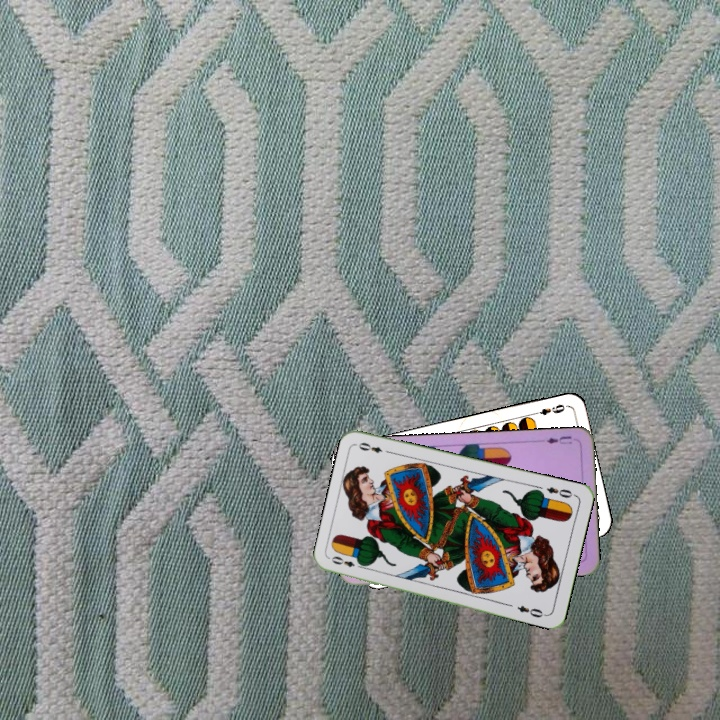E9: (529, 400, 569, 418)
EO: (327, 552, 367, 571), (542, 482, 578, 500)
EU: (542, 432, 574, 447)
